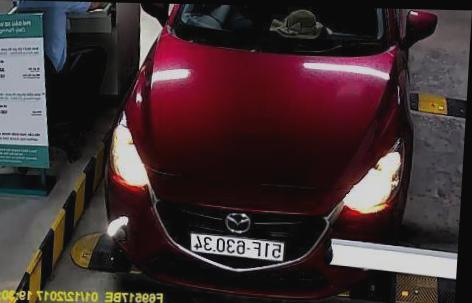License_Plate: (189, 234, 284, 260)
